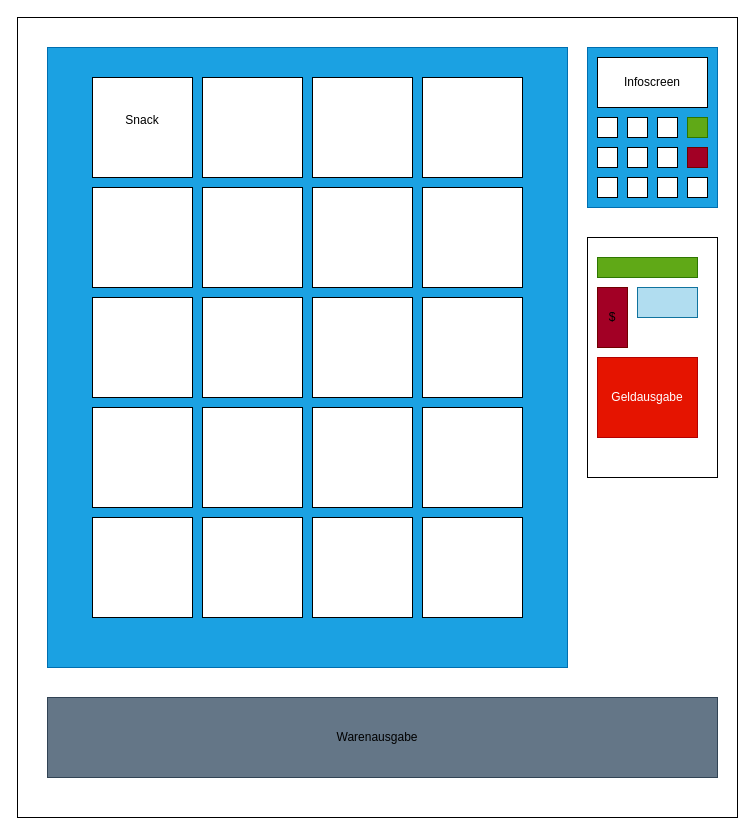
Image size: 755x835. Some labels were removed from this diagram. The shapes that lost their labels are listed below. From the top down, each one's centre as x and y in pixels, then its label:
point (647, 267): Schieneingabe
point (667, 302): Geld zurück
